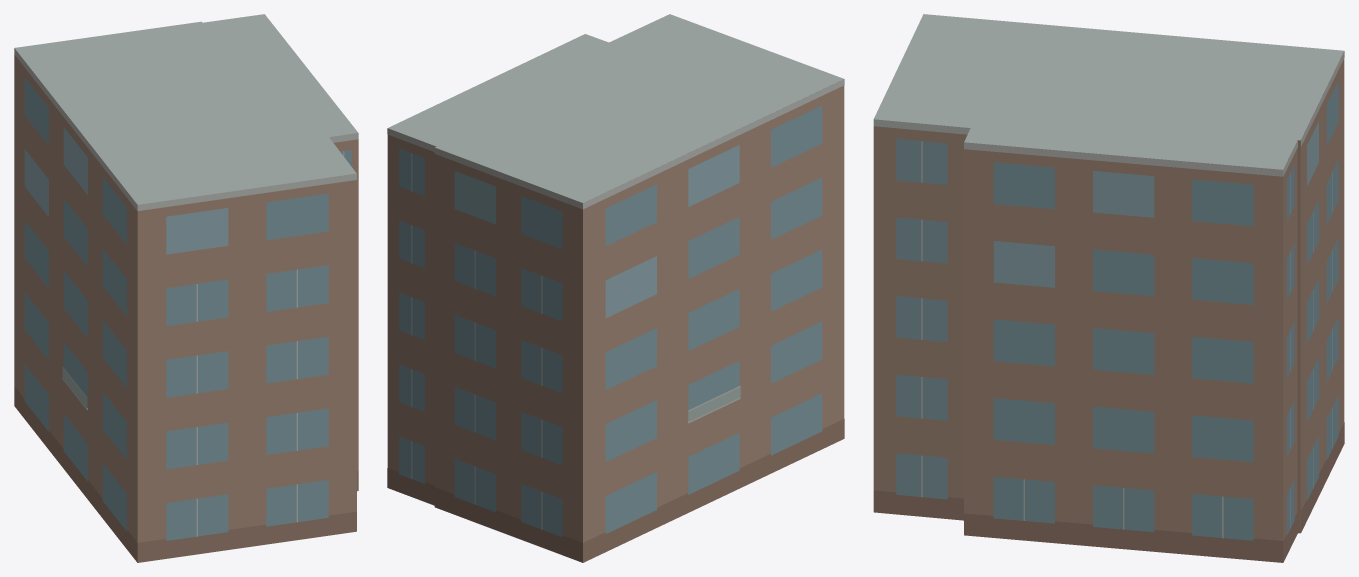
Rendered from survey-upis-32652873.glb.
3 renders of one model, left to right at view 1: azimuth 30°, elevation 25°; view 2: azimuth 150°, elevation 25°; view 3: azimuth 270°, elevation 25°, orthographic. The views are drawn at different scales.
Visible parts, largest first — view 1: survey-upis-32652873.tmp; view 2: survey-upis-32652873.tmp; view 3: survey-upis-32652873.tmp.
Boxes of the visible parts, <box> form: survey-upis-32652873.tmp: <box>14,14,358,562</box>; survey-upis-32652873.tmp: <box>387,14,844,562</box>; survey-upis-32652873.tmp: <box>873,14,1344,562</box>.
Bounding box in the file's own units: 11.85 × 13.93 × 15.13.
